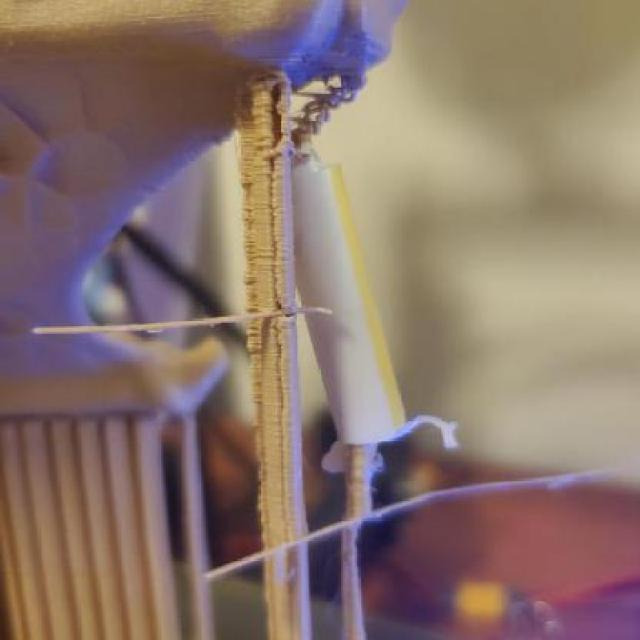Spaghetti: (31, 305, 332, 338), (287, 73, 358, 142)
